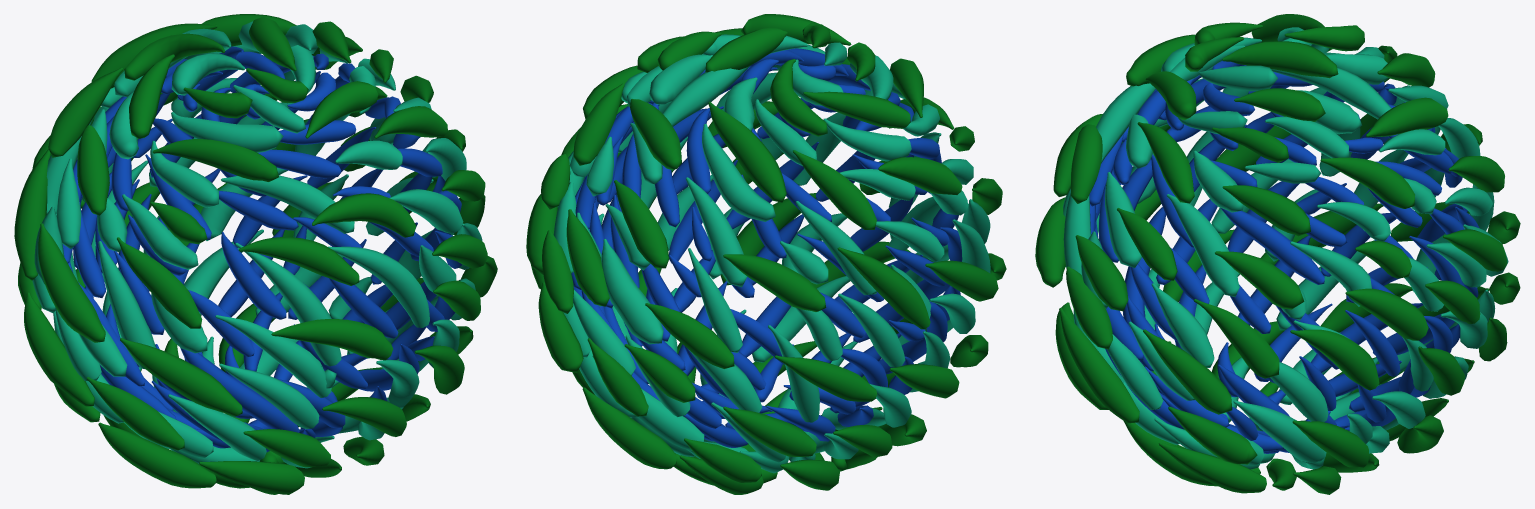
3 renders of one model, left to right at view 1: azimuth 30°, elevation 25°; view 2: azimuth 150°, elevation 25°; view 3: azimuth 270°, elevation 25°, orthographic.
Parts seen in each view (by area): view 1: Untitled_24_Wire_geo; view 2: Untitled_24_Wire_geo; view 3: Untitled_24_Wire_geo.
Boxes of the visible parts, left/top/right/bottom form: Untitled_24_Wire_geo: left=14, top=14, right=497, bottom=494; Untitled_24_Wire_geo: left=526, top=14, right=1006, bottom=494; Untitled_24_Wire_geo: left=1035, top=14, right=1520, bottom=494.
Bounding box in the file's own units: 4.77 × 4.75 × 4.74.
